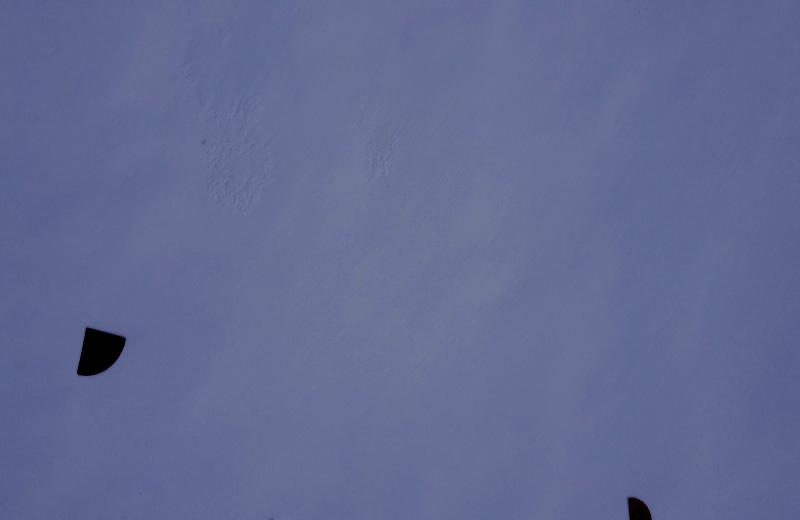Quarter Circle: (76, 324, 128, 377)
Semi Circle: (628, 495, 654, 520)
